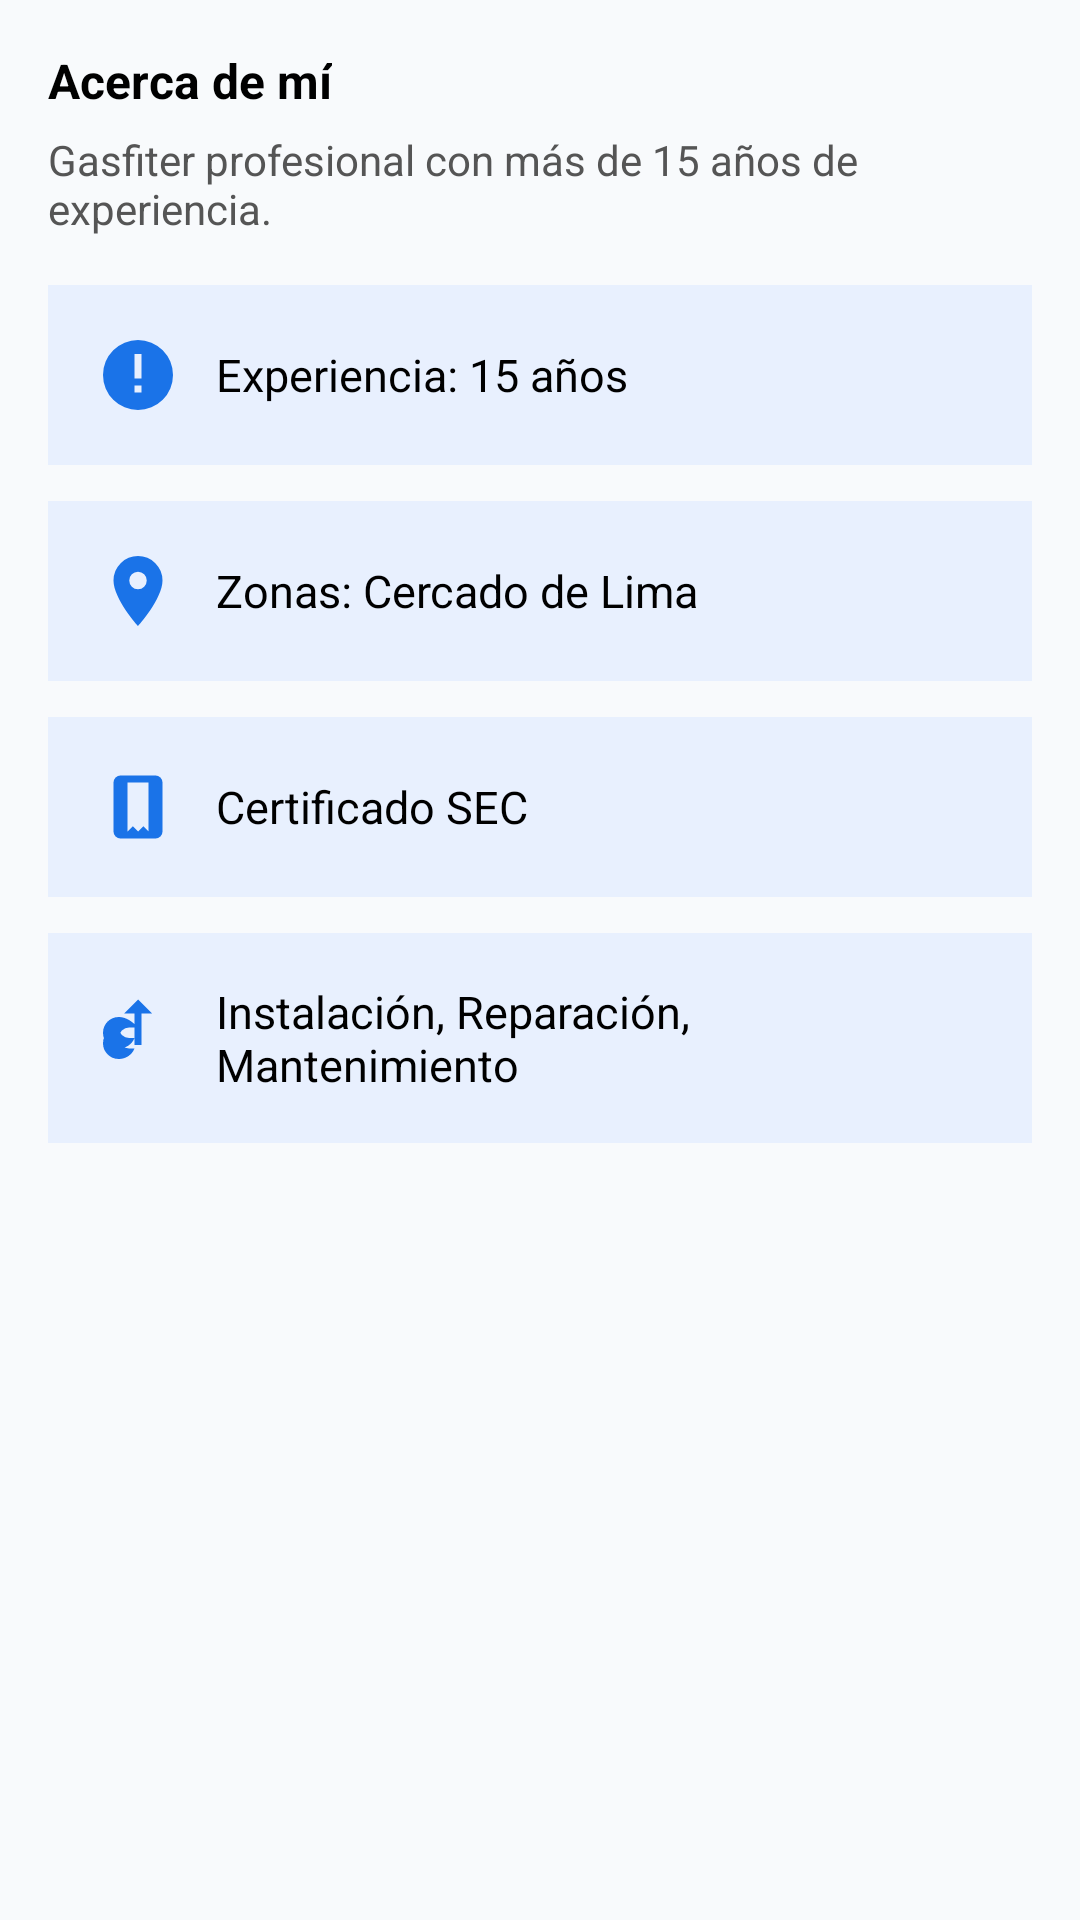

Icons on this 1080x1920 Android screen, each with its box as (x1, y1, x2, y2):
location: (113, 556, 163, 626)
